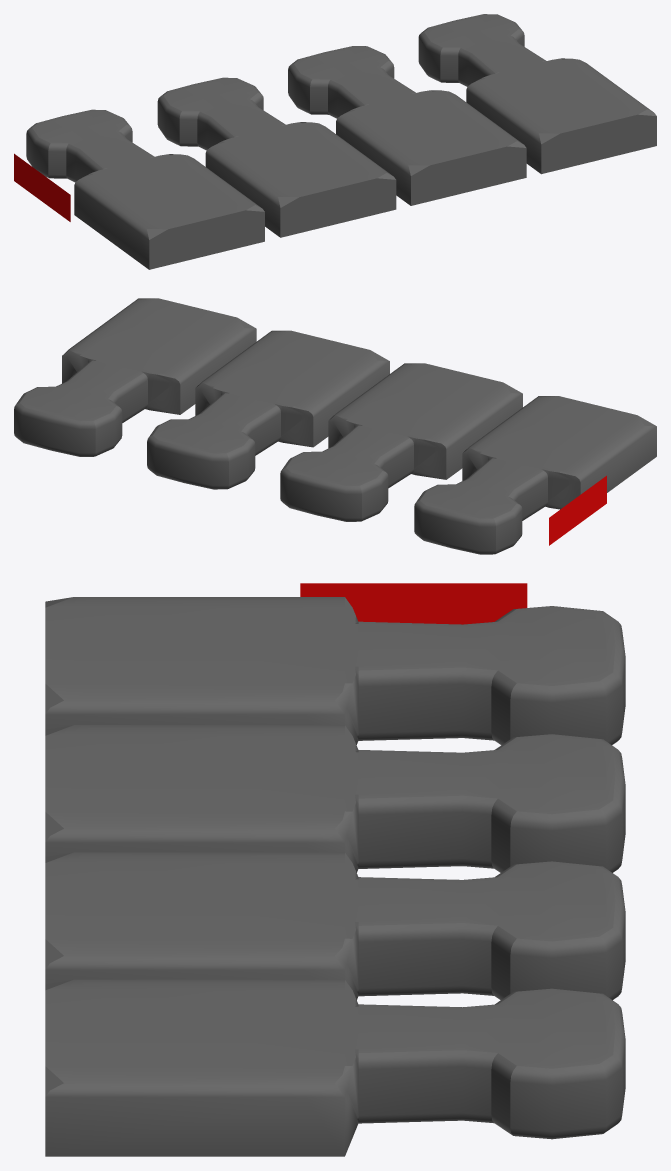
Rendered from 拉链右2.fbx.
3 views of the same model, one above another, from view 1: azimuth 30°, elevation 25°; view 2: azimuth 150°, elevation 25°; view 3: azimuth 270°, elevation 25° (orthographic). The views are drawn at different scales.
Visible parts, largest first — view 1: 拉链_锯齿002; view 2: 拉链_锯齿002; view 3: 拉链_锯齿002.
Boxes of the visible parts, x1,y1,x2,y2 form: 拉链_锯齿002: (14, 14, 656, 269); 拉链_锯齿002: (14, 298, 656, 554); 拉链_锯齿002: (45, 583, 625, 1156).
Bounding box in the file's own units: 2953 × 194 × 1421.
